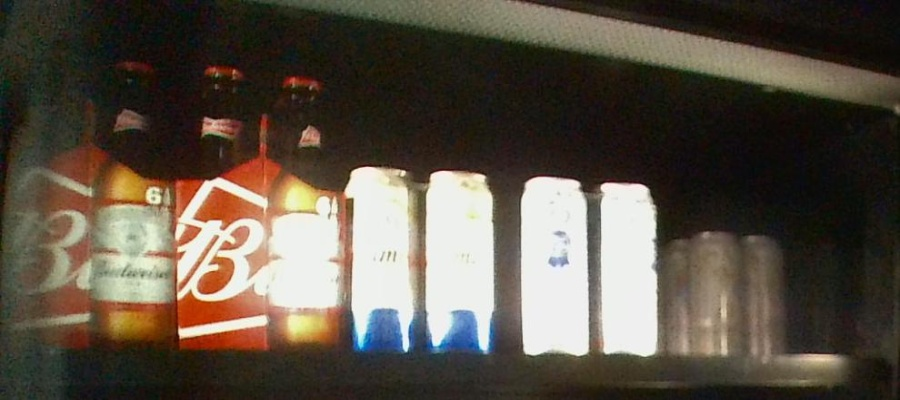bottle: (9, 53, 175, 343), (181, 64, 349, 349), (349, 161, 493, 350), (519, 172, 657, 358), (688, 232, 787, 359)
